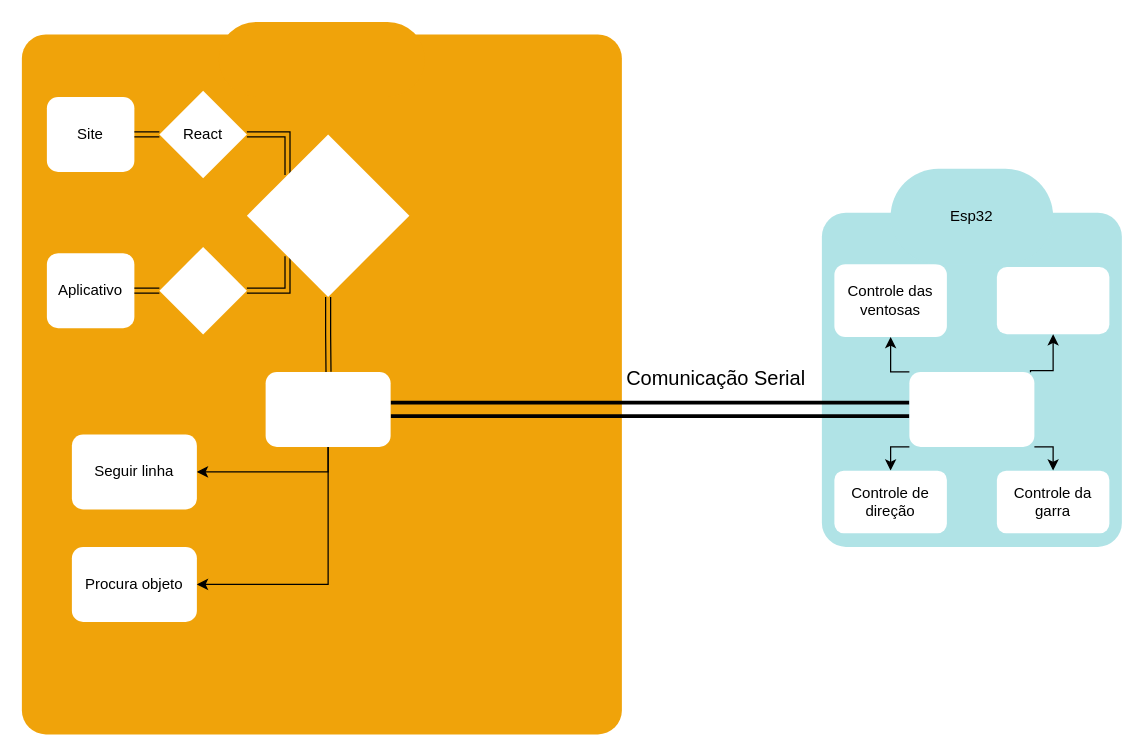
This 1143x755 diagram has some shape labels left out. Each missing label, with the box of its shape:
API Flask + Serial + GPIO: (246, 134, 409, 296)
Interpretação: (909, 371, 1034, 446)
Processamento: (265, 371, 390, 446)
RaspBerry: (218, 21, 424, 96)
React Native: (159, 246, 246, 334)
